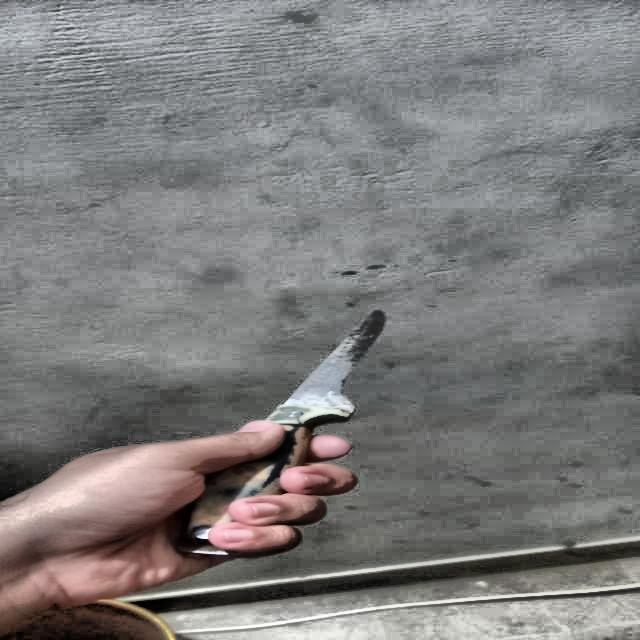knife: (180, 311, 386, 556)
